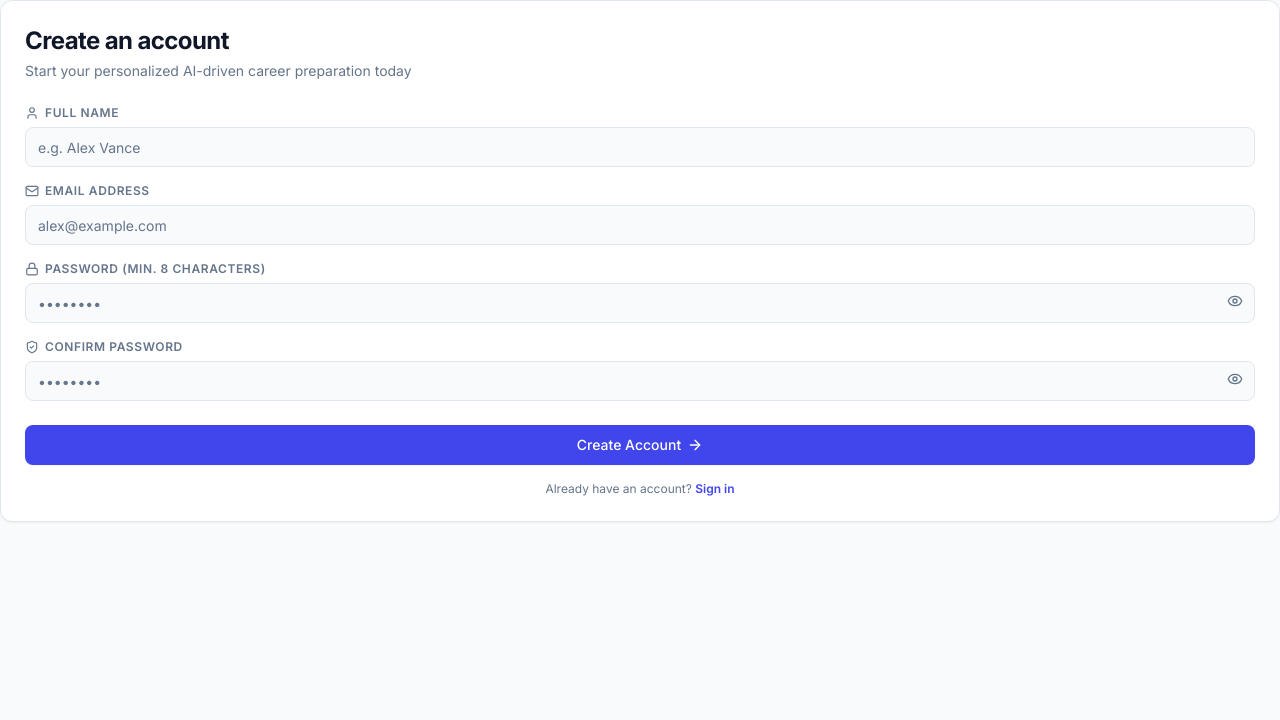
RegisterScreen › validates empty fields on submission
Click the button "Create Account" at {"x": 640, "y": 445}, box top-left (25, 425), bottom-right (1255, 465)
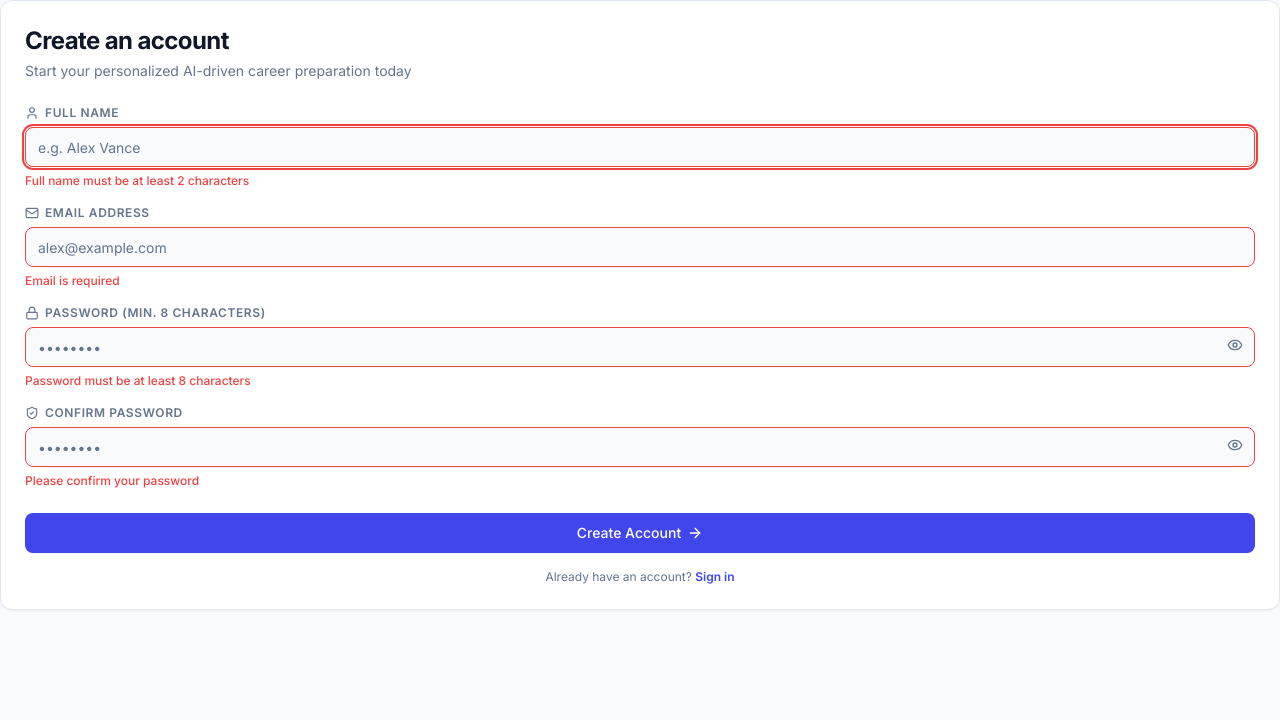
Expected: the text "Full name must be at least 2 characters" is shown, top-left (25, 173), bottom-right (249, 188)
Expected: the text "Email is required" is shown, top-left (25, 273), bottom-right (120, 288)
Expected: the text "Password must be at least 8 characters" is shown, top-left (25, 373), bottom-right (251, 388)
